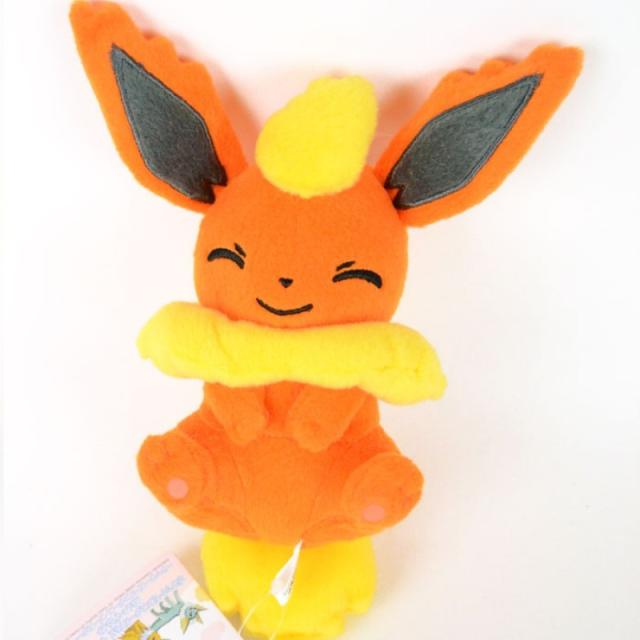Flareon: (106, 57, 488, 628)
